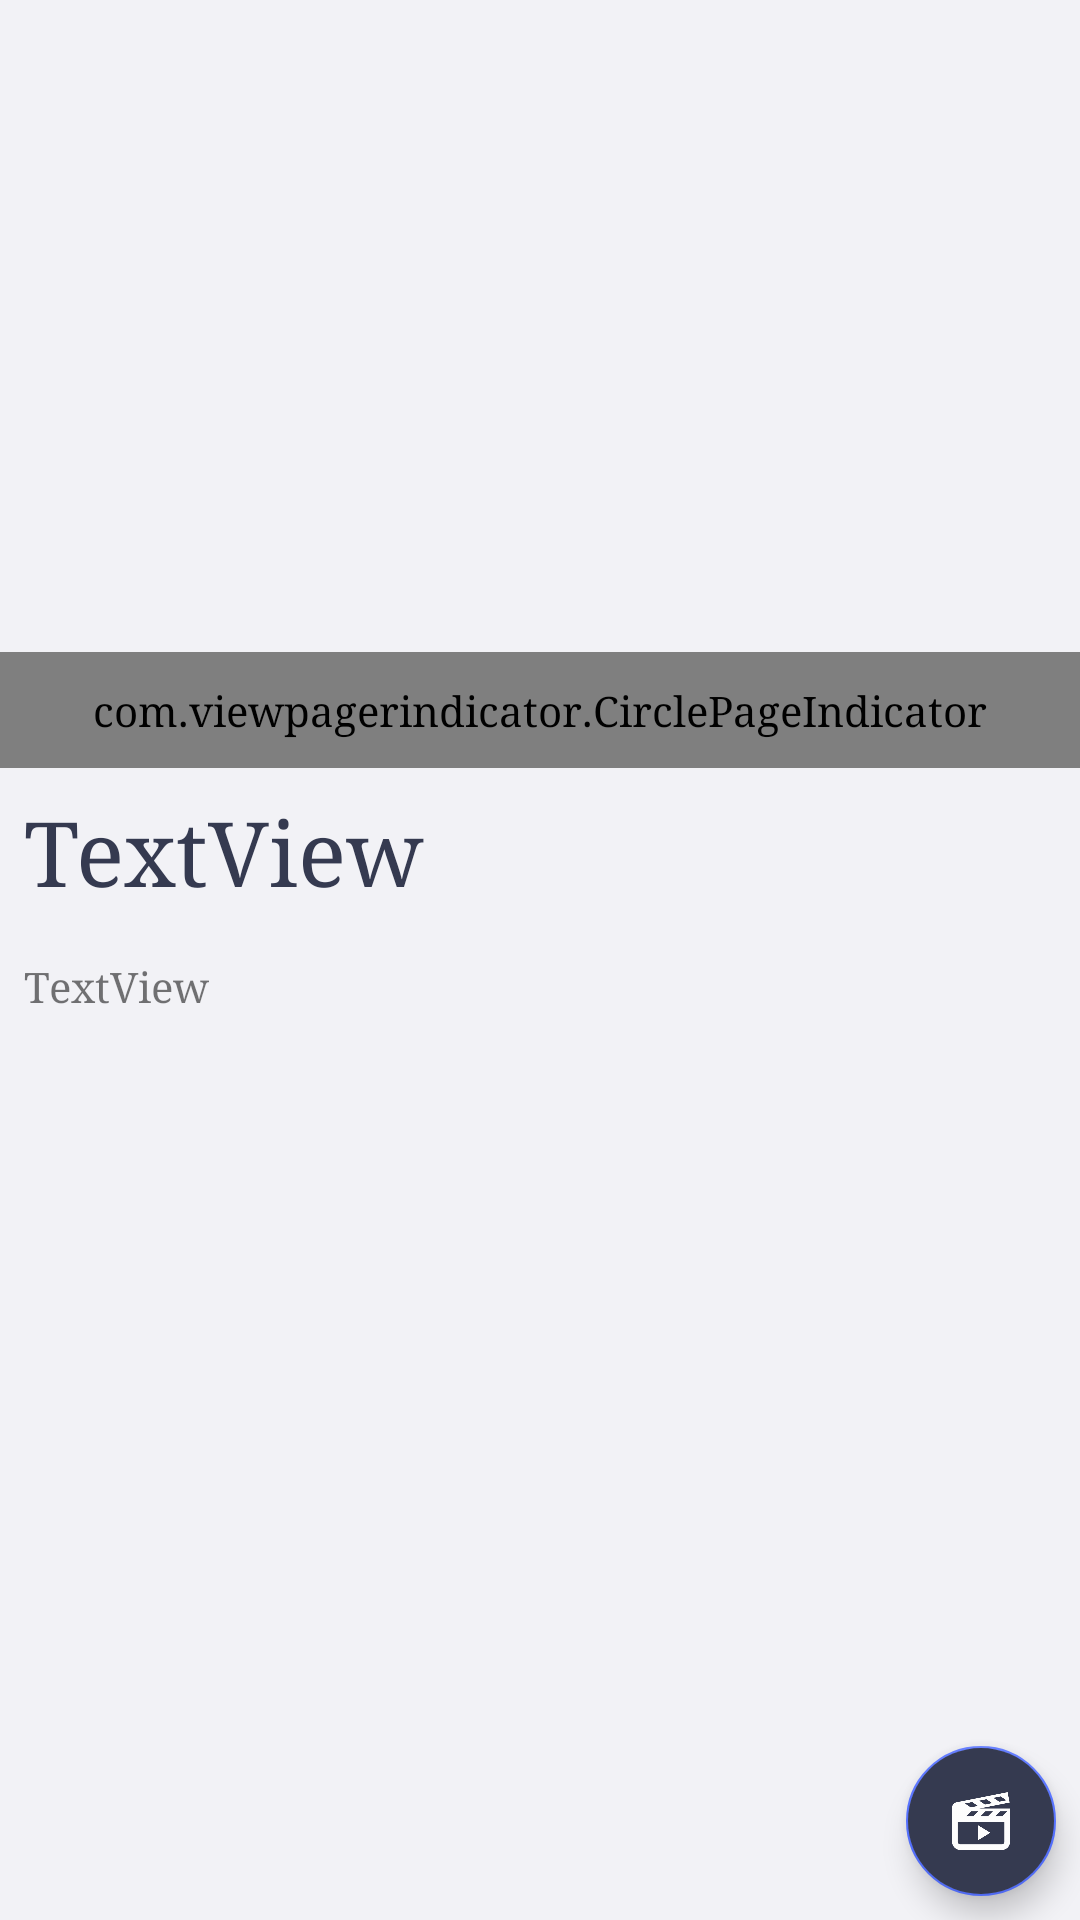

Named icons in this screenshot (1080w x 1920h) and their bounding boxes, (x1, y1, x2, y2):
detailed play video: (906, 1746, 1056, 1896)
